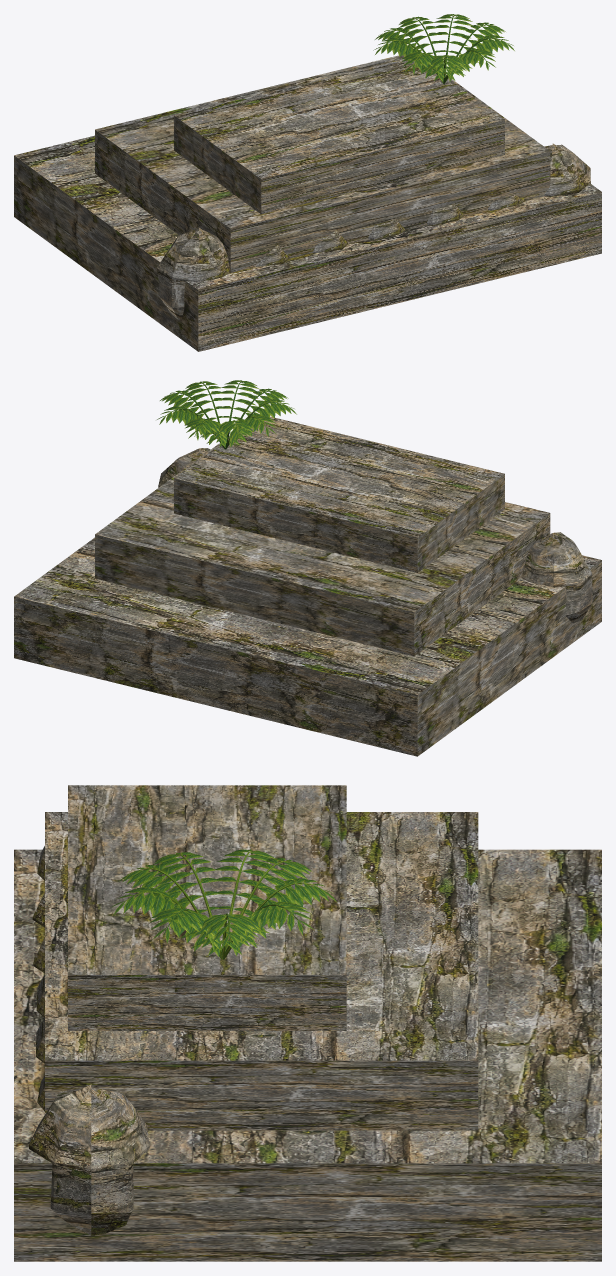
Rendered from TidalTerrace.fbx.
3 renders of one model, top to bottom at view 1: azimuth 30°, elevation 25°; view 2: azimuth 150°, elevation 25°; view 3: azimuth 270°, elevation 25°, orthographic. The views are drawn at different scales.
Visible parts, largest first — view 1: TidalTerrace_LOD0; view 2: TidalTerrace_LOD0; view 3: TidalTerrace_LOD0.
Boxes of the visible parts, <box> form: TidalTerrace_LOD0: <box>14,14,601,351</box>; TidalTerrace_LOD0: <box>14,380,601,756</box>; TidalTerrace_LOD0: <box>14,785,601,1261</box>.
Size of what is drawn, in the model's own units: 5.08 by 2.23 by 3.8.
